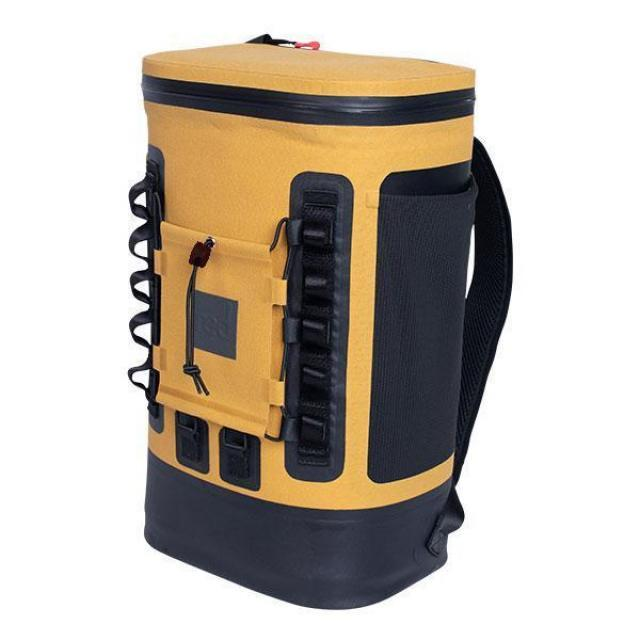Backpacks: (132, 33, 492, 610)
